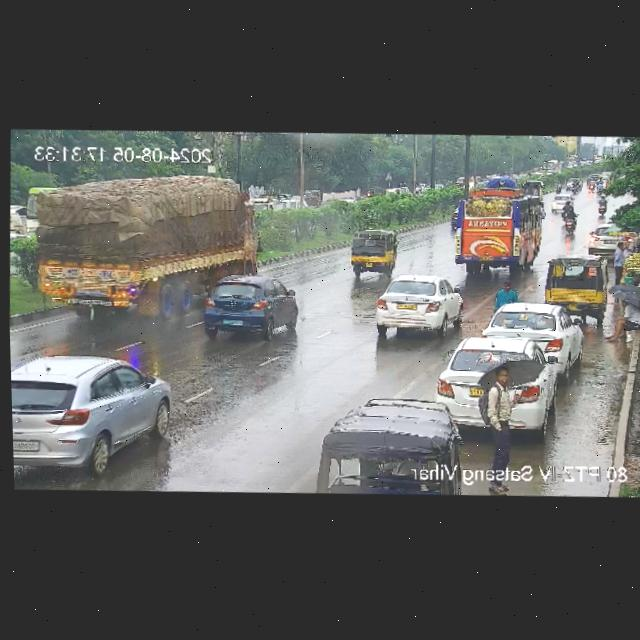bus: (24, 165, 270, 322), (443, 153, 549, 281)
car: (10, 347, 172, 468), (431, 333, 559, 433), (197, 271, 303, 342), (360, 273, 459, 340), (486, 300, 583, 362), (541, 253, 610, 317), (343, 228, 397, 275), (582, 223, 636, 256)
person: (488, 360, 524, 468), (605, 302, 640, 346), (489, 281, 518, 307), (612, 240, 627, 283)
